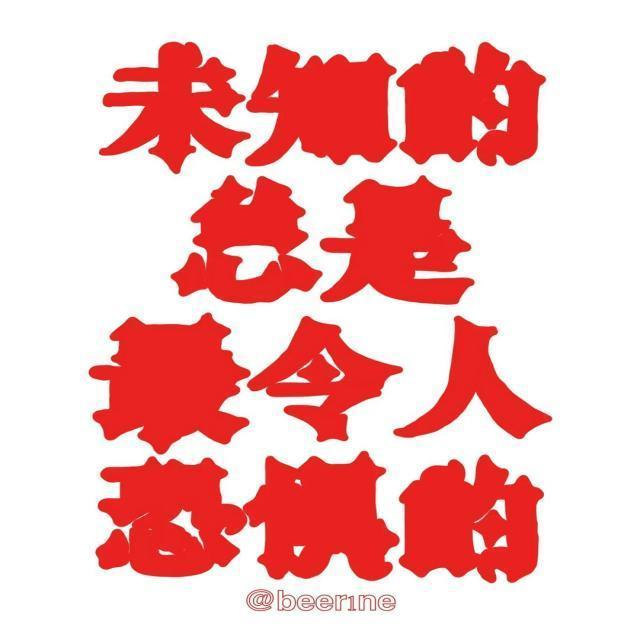nonspitting: (87, 33, 549, 588)
